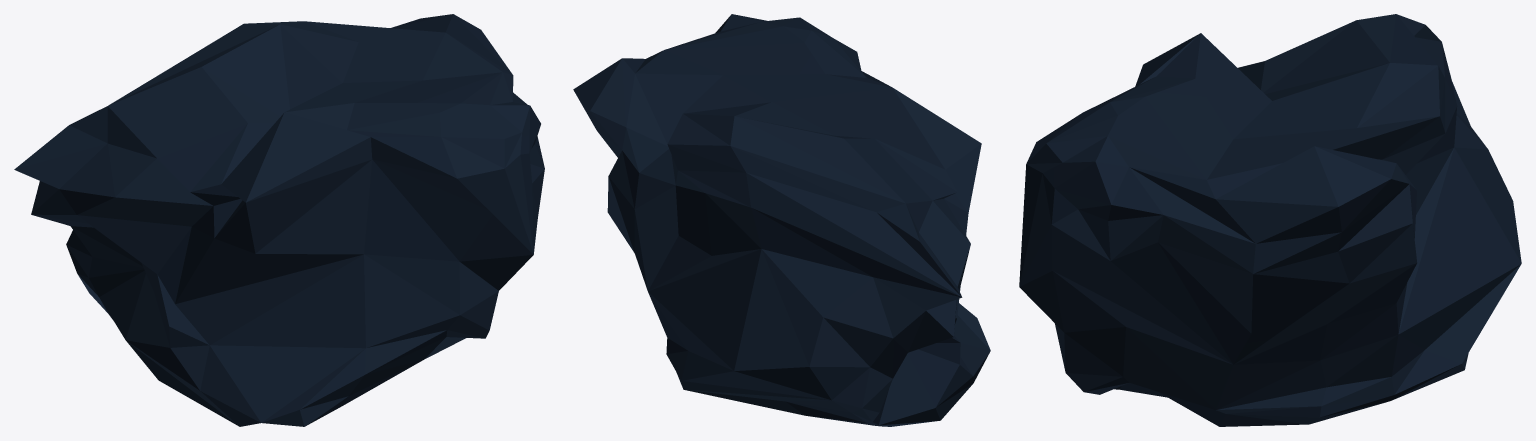
The model's file is rock025.FBX.
3 views of the same model, side by side, from view 1: azimuth 30°, elevation 25°; view 2: azimuth 150°, elevation 25°; view 3: azimuth 270°, elevation 25° (orthographic). The views are drawn at different scales.
Visible parts, largest first — view 1: rock_025; view 2: rock_025; view 3: rock_025.
Part boxes in pixels (x1=…): rock_025: x1=14, y1=14, x2=544, y2=426; rock_025: x1=573, y1=14, x2=990, y2=426; rock_025: x1=1019, y1=14, x2=1521, y2=426.
Bounding box in the file's own units: 12.01 × 8.08 × 10.35.
